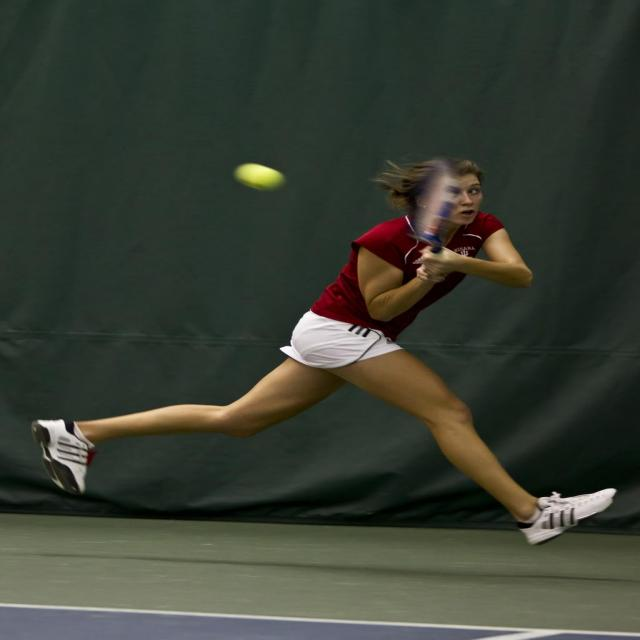nomask: (434, 175, 482, 226)
